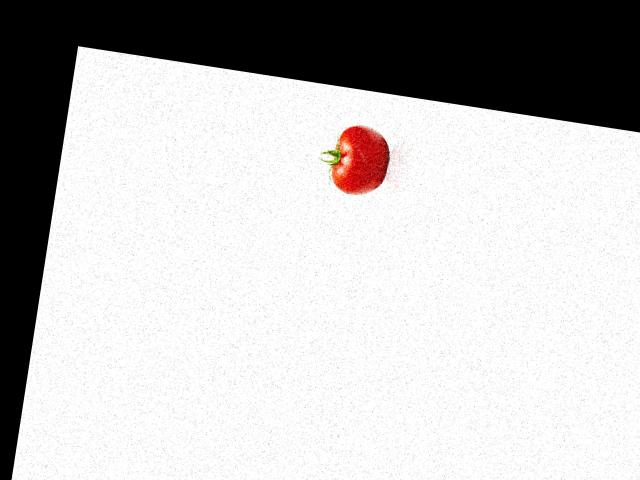tomato: (328, 121, 393, 199)
